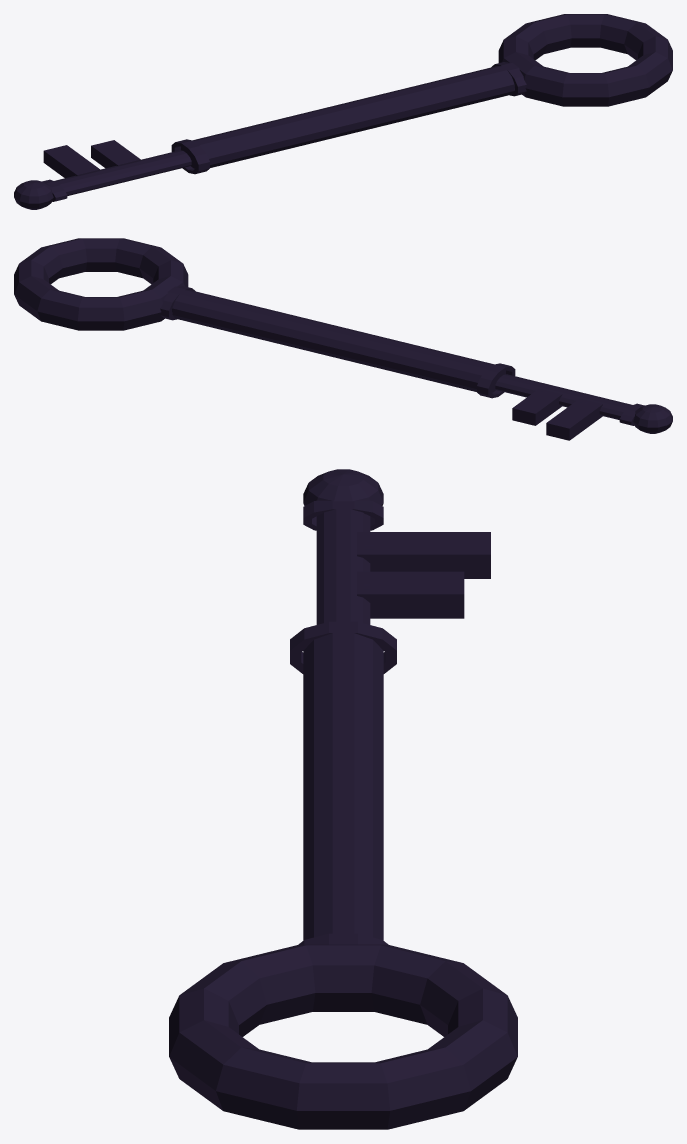
File: chave.gltf
3 views of the same model, one above another, from view 1: azimuth 30°, elevation 25°; view 2: azimuth 150°, elevation 25°; view 3: azimuth 270°, elevation 25° (orthographic). The views are drawn at different scales.
Visible parts, largest first — view 1: cylinder (×2), torus, cuboid (×2), tube (×2), sphere; view 2: cylinder (×2), torus, cuboid (×2), tube (×2), sphere; view 3: torus, cylinder (×2), cuboid (×2), tube (×2), sphere.
Boxes of the visible parts, x1,y1,x2,y2 form: cylinder (×2): [48, 66, 514, 195]; torus: [498, 14, 672, 106]; cuboid (×2): [43, 140, 140, 178]; tube (×2): [171, 62, 526, 174]; sphere: [14, 180, 53, 209]; cylinder (×2): [172, 290, 638, 419]; torus: [14, 238, 188, 330]; cuboid (×2): [512, 388, 602, 440]; tube (×2): [160, 286, 515, 398]; sphere: [633, 404, 672, 433]; torus: [169, 944, 517, 1129]; cylinder (×2): [303, 501, 383, 940]; cuboid (×2): [357, 532, 490, 618]; tube (×2): [290, 500, 396, 673]; sphere: [303, 469, 383, 505].
Size of the model in its own units: 0.6937 by 0.0338 by 0.1625.
1 material, 1 textured.
